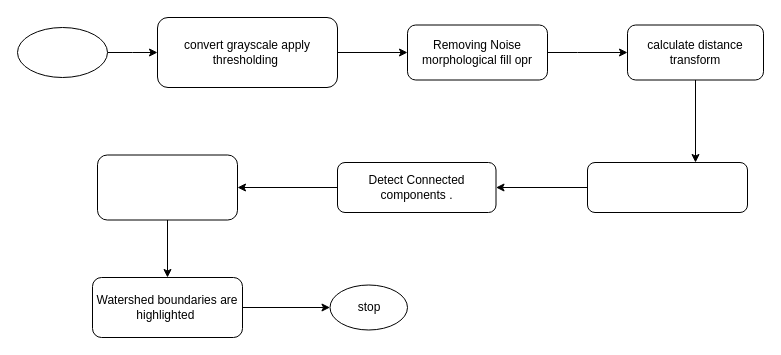
Some shapes in this 781 by 355 pixel diagram are drawn without their labels. Each missing label, with the centre of its shape:
start: point (62, 52)
threshold the distance tranformed img: point (667, 187)
Watershed segmentation is applied: point (167, 187)
